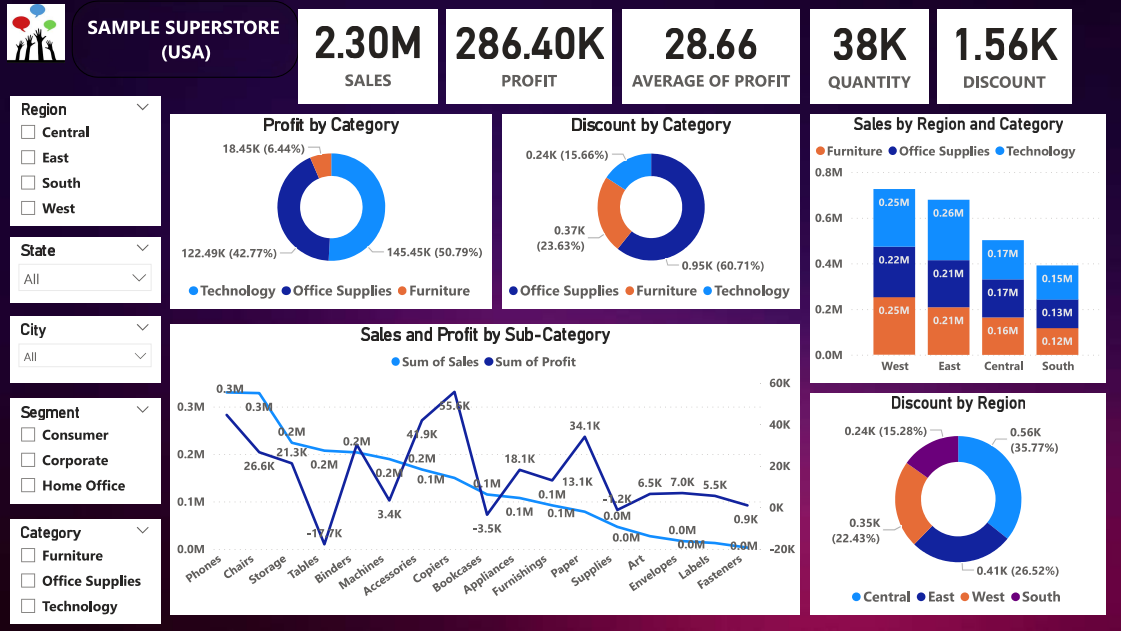

This screenshot's page, from the dashboard's own definition file:
{"tool":"powerbi","page":{"name":"DASHBOARD 1","canvas":[1280,720],"ordinal":3},"visuals":[{"type":"image","box":[0,0,80.8,76],"z":0},{"type":"textbox","box":[80.8,0,259.3,88],"z":1000},{"type":"slicer","fields":{"Values":["SampleSuperstore.Region"]},"box":[9.6,108.5,172.5,148.3],"z":2000},{"type":"slicer","fields":{"Values":["SampleSuperstore.State"]},"box":[9.6,270.2,172.5,74.8],"z":3000},{"type":"slicer","fields":{"Values":["SampleSuperstore.City"]},"box":[9.6,360.6,172.5,76],"z":4000},{"type":"slicer","fields":{"Values":["SampleSuperstore.Segment"]},"box":[9.6,454.7,172.5,120.6],"z":5000},{"type":"slicer","fields":{"Values":["SampleSuperstore.Category"]},"box":[9.6,593.4,172.5,118.2],"z":6000},{"type":"card","fields":{"Values":["Sum(SampleSuperstore.Sales)"]},"box":[340.1,9.6,159.2,108.5],"z":7000},{"type":"card","fields":{"Values":["Sum(SampleSuperstore.Profit)"]},"box":[508.9,9.6,189.3,108.5],"z":8000},{"type":"card","fields":{"Values":["Avg(SampleSuperstore.Profit)"]},"box":[710.4,9.6,202.6,108.5],"z":9000},{"type":"card","fields":{"Values":["Sum(SampleSuperstore.Quantity)"]},"box":[925,9.6,135.1,108.5],"z":10000},{"type":"card","fields":{"Values":["Sum(SampleSuperstore.Discount)"]},"box":[1069.7,9.6,153.2,108.5],"z":11000},{"type":"donutChart","fields":{"Y":["Sum(SampleSuperstore.Profit)"],"Category":["SampleSuperstore.Category"]},"box":[194.2,130.3,366.6,221.9],"z":12000},{"type":"donutChart","fields":{"Y":["Sum(SampleSuperstore.Discount)"],"Category":["SampleSuperstore.Category"]},"box":[572.9,130.3,340.1,221.9],"z":13000},{"type":"columnChart","title":"Sales by Region and Category","fields":{"Y":["Sum(SampleSuperstore.Sales)"],"Category":["SampleSuperstore.Region"],"Series":["SampleSuperstore.Category"]},"box":[925,130.3,337.7,306.3],"z":14000},{"type":"donutChart","title":"Discount by Region","fields":{"Y":["Sum(SampleSuperstore.Discount)"],"Category":["SampleSuperstore.Region"]},"box":[925,448.6,337.7,253.3],"z":15000},{"type":"lineChart","title":"Sales and Profit by Sub-Category","fields":{"Category":["SampleSuperstore.Sub-Category"],"Y":["Sum(SampleSuperstore.Sales)"],"Y2":["Sum(SampleSuperstore.Profit)"]},"box":[194.2,370.3,718.8,331.7],"z":16000}]}

Visuals, with their boxes in screenshot pixels (x1, y1, x2, y2), scaled from the page's 1280x720 canvas onto the 1121x631 screenshot:
image: x1=0, y1=0, x2=71, y2=67
textbox: x1=71, y1=0, x2=298, y2=77
slicer - SampleSuperstore.Region: x1=8, y1=95, x2=159, y2=225
slicer - SampleSuperstore.State: x1=8, y1=237, x2=159, y2=302
slicer - SampleSuperstore.City: x1=8, y1=316, x2=159, y2=383
slicer - SampleSuperstore.Segment: x1=8, y1=398, x2=159, y2=504
slicer - SampleSuperstore.Category: x1=8, y1=520, x2=159, y2=624
card - Sum(SampleSuperstore.Sales): x1=298, y1=8, x2=437, y2=104
card - Sum(SampleSuperstore.Profit): x1=446, y1=8, x2=611, y2=104
card - Avg(SampleSuperstore.Profit): x1=622, y1=8, x2=800, y2=104
card - Sum(SampleSuperstore.Quantity): x1=810, y1=8, x2=928, y2=104
card - Sum(SampleSuperstore.Discount): x1=937, y1=8, x2=1071, y2=104
donutChart - Sum(SampleSuperstore.Profit) x SampleSuperstore.Category: x1=170, y1=114, x2=491, y2=309
donutChart - Sum(SampleSuperstore.Discount) x SampleSuperstore.Category: x1=502, y1=114, x2=800, y2=309
"Sales by Region and Category" columnChart: x1=810, y1=114, x2=1106, y2=383
"Discount by Region" donutChart: x1=810, y1=393, x2=1106, y2=615
"Sales and Profit by Sub-Category" lineChart: x1=170, y1=325, x2=800, y2=615
